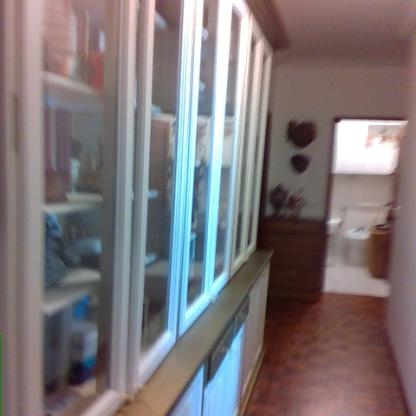open: (315, 107, 412, 295)
